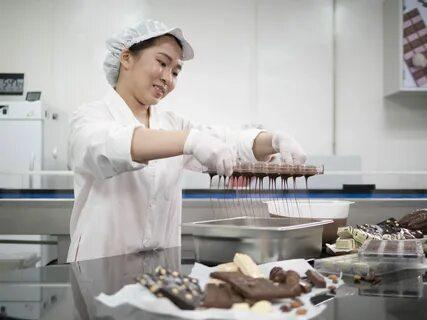hairnet: (96, 6, 204, 91)
